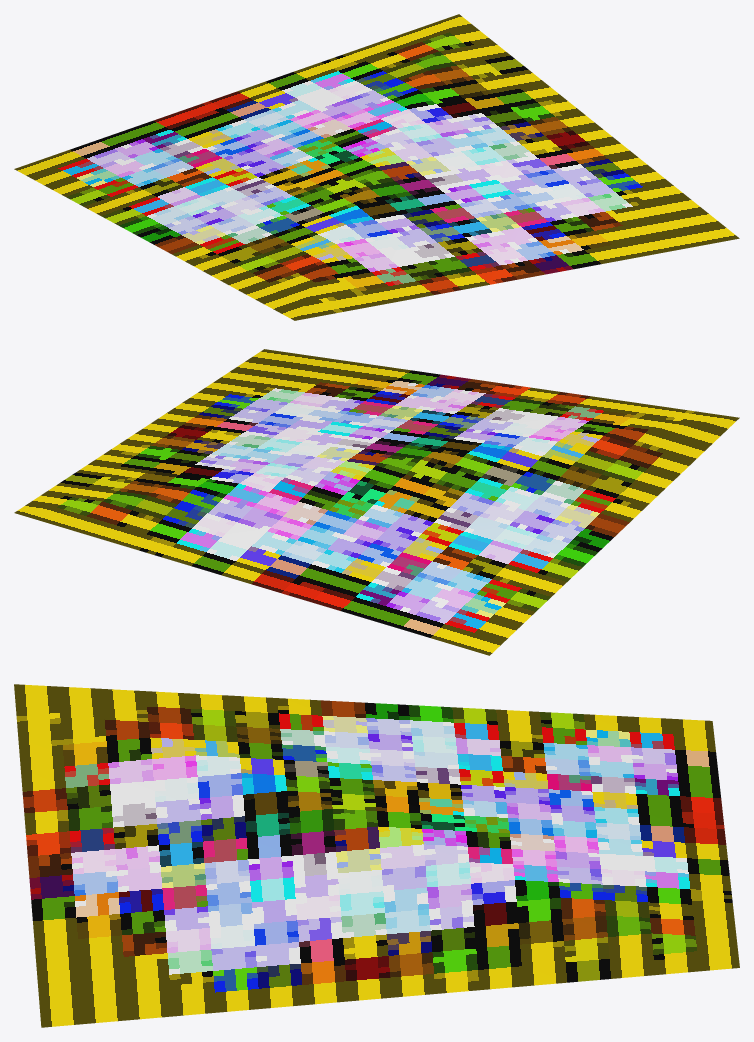
The model's file is idle.glb.
3 views of the same model, one above another, from view 1: azimuth 30°, elevation 25°; view 2: azimuth 150°, elevation 25°; view 3: azimuth 270°, elevation 25° (orthographic). The views are drawn at different scales.
Parts seen in each view (by area): view 1: MeshRoot; view 2: MeshRoot; view 3: MeshRoot.
Part boxes in pixels (<box>): MeshRoot: <box>14,14,739,320</box>; MeshRoot: <box>14,349,739,655</box>; MeshRoot: <box>14,684,739,1027</box>.
Size of the model in its own units: 1.87 by 0.137 by 1.87.
1 material, 1 textured.
